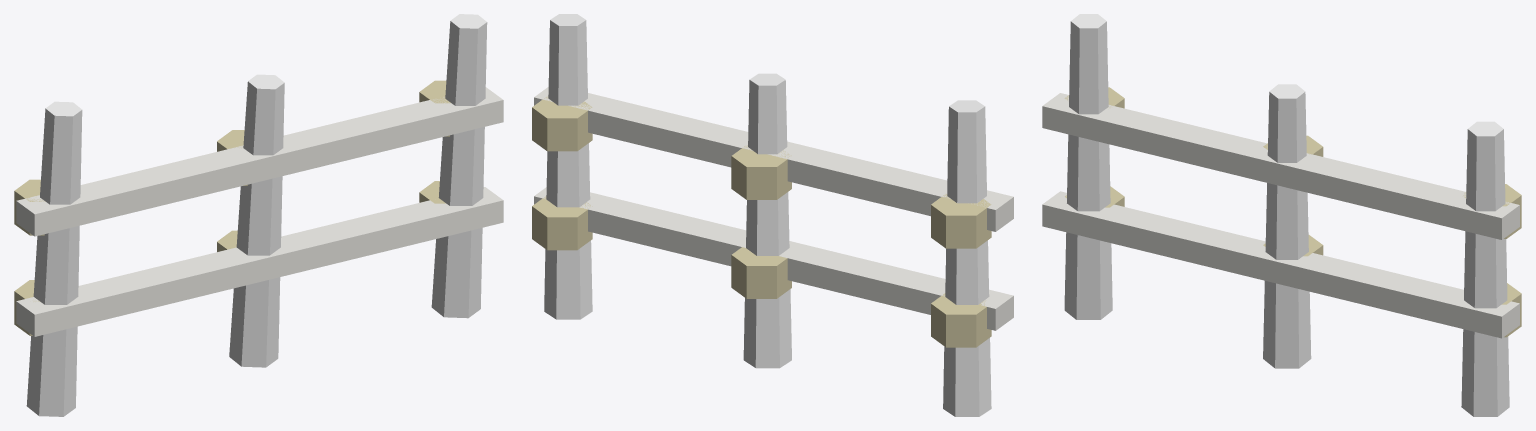
Rendered from fence.glb.
3 views of the same model, side by side, from view 1: azimuth 30°, elevation 25°; view 2: azimuth 150°, elevation 25°; view 3: azimuth 330°, elevation 25° (orthographic).
Parts seen in each view (by area): view 1: fence; view 2: fence; view 3: fence.
Boxes of the visible parts, <box> form: fence: <box>14,14,503,416</box>; fence: <box>532,14,1013,416</box>; fence: <box>1042,14,1521,416</box>.
Size of the model in its own units: 2.75 by 1.7 by 0.375.
